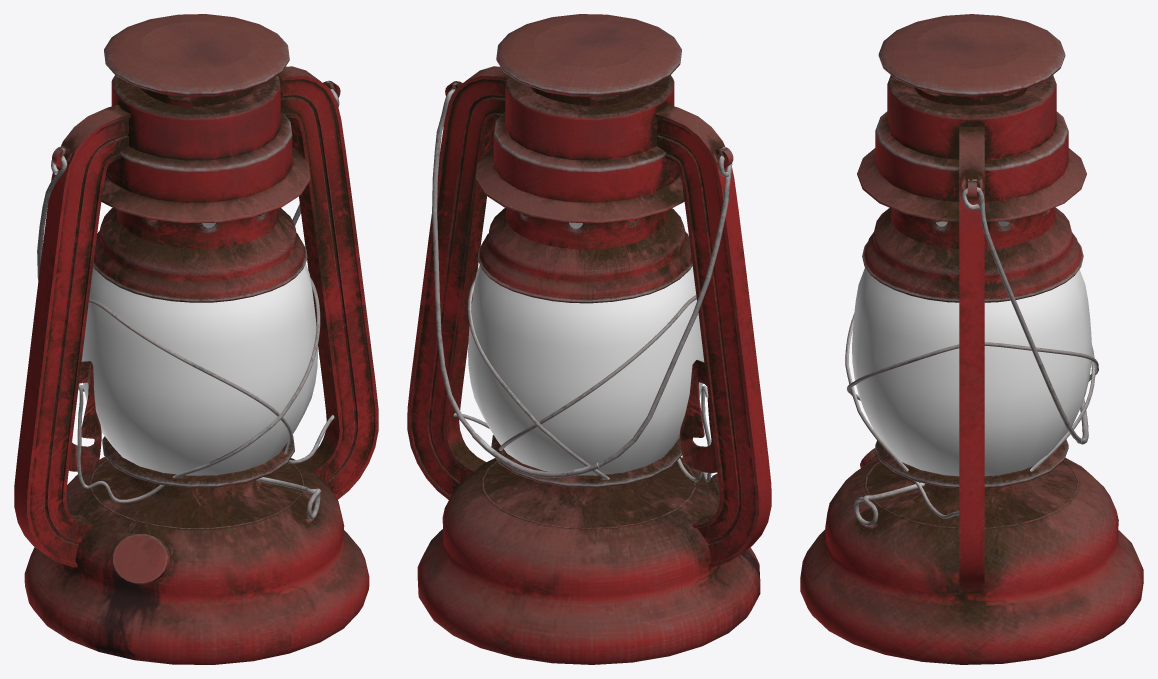
Rendered from lantern.obj.
The picture shows the model from 3 angles, left to right: view 1: azimuth 30°, elevation 25°; view 2: azimuth 150°, elevation 25°; view 3: azimuth 270°, elevation 25°; orthographic projection.
Visible parts, largest first — view 1: lantern_base_Mesh.011, glass_Mesh.006, supporting_cage_Mesh.010, lid_Mesh.008, handle_Mesh.009, handle_small_Mesh.007; view 2: lantern_base_Mesh.011, glass_Mesh.006, handle_Mesh.009, supporting_cage_Mesh.010; view 3: lantern_base_Mesh.011, glass_Mesh.006, supporting_cage_Mesh.010, handle_Mesh.009, handle_small_Mesh.007.
Boxes of the visible parts, x1,y1,x2,y2 form: lantern_base_Mesh.011: [14, 14, 378, 664]; glass_Mesh.006: [81, 221, 317, 475]; supporting_cage_Mesh.010: [77, 277, 334, 503]; lid_Mesh.008: [112, 534, 169, 584]; handle_Mesh.009: [37, 89, 339, 391]; handle_small_Mesh.007: [255, 477, 321, 519]; lantern_base_Mesh.011: [407, 14, 771, 664]; glass_Mesh.006: [468, 222, 704, 475]; handle_Mesh.009: [432, 89, 732, 477]; supporting_cage_Mesh.010: [453, 278, 711, 482]; lantern_base_Mesh.011: [800, 14, 1143, 664]; glass_Mesh.006: [852, 221, 1091, 476]; supporting_cage_Mesh.010: [845, 313, 1098, 518]; handle_Mesh.009: [962, 187, 1088, 444]; handle_small_Mesh.007: [854, 482, 924, 526].
Size of the model in its own units: 0.5983 by 0.893 by 0.5064.
Materials: 2 (1 with a texture image).
